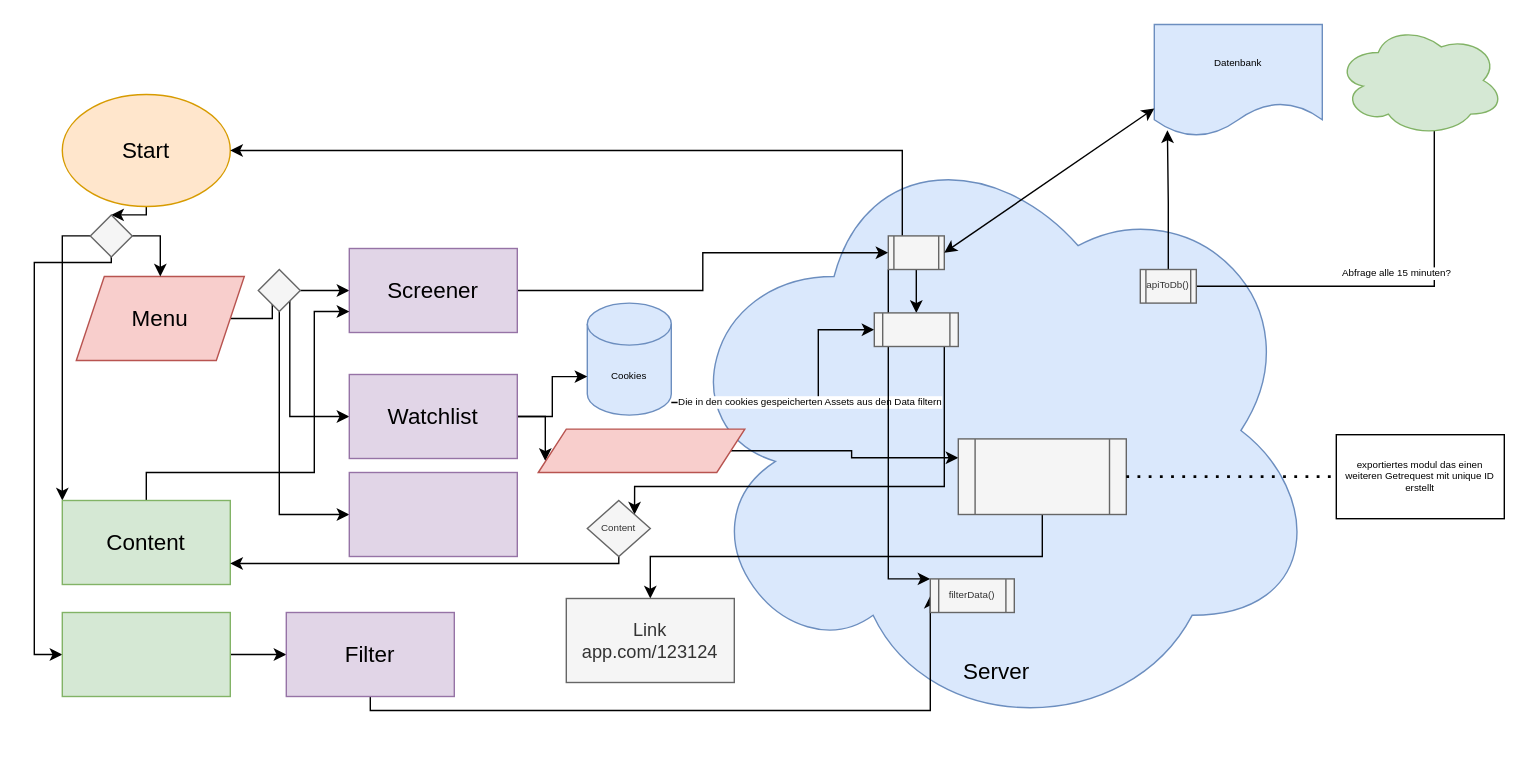
This 1529x763 diagram has some shape labels left out. Each missing label, with the centre of its shape:
"API" belongs at point (1419, 79).
"Contact me" belongs at point (432, 513).
"createSharedWatchlist()" belongs at point (1041, 476).
"getData()" belongs at point (915, 252).
"share watchlist" belongs at point (641, 450).
"Sidebar" belongs at point (145, 653).
"watchlistData()" belongs at point (915, 329).
